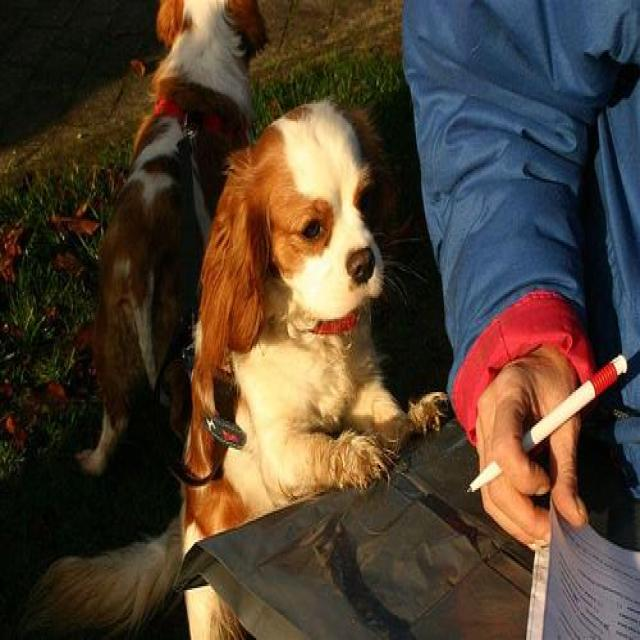blenheim_spaniel: (182, 94, 449, 638)
